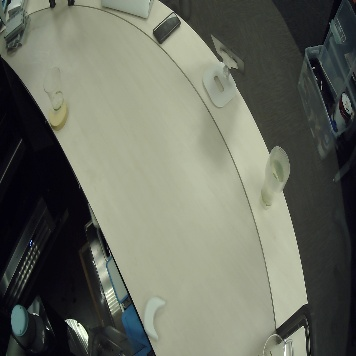empty_cup: (257, 136, 291, 213), (41, 67, 67, 111), (254, 332, 294, 356)
puck: (137, 293, 170, 341), (46, 101, 72, 132)
